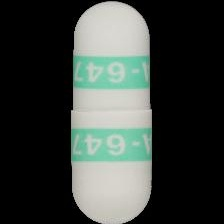55700-089: (0, 0, 224, 224)
